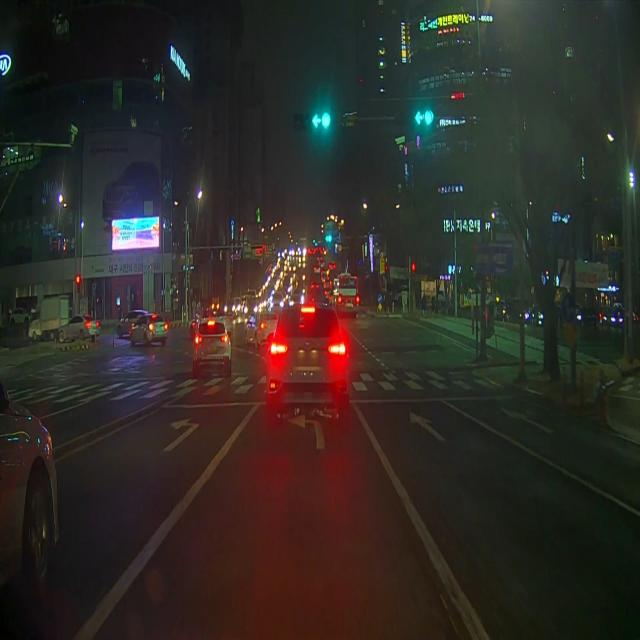Green Light: (424, 109, 434, 127), (322, 113, 332, 130)
